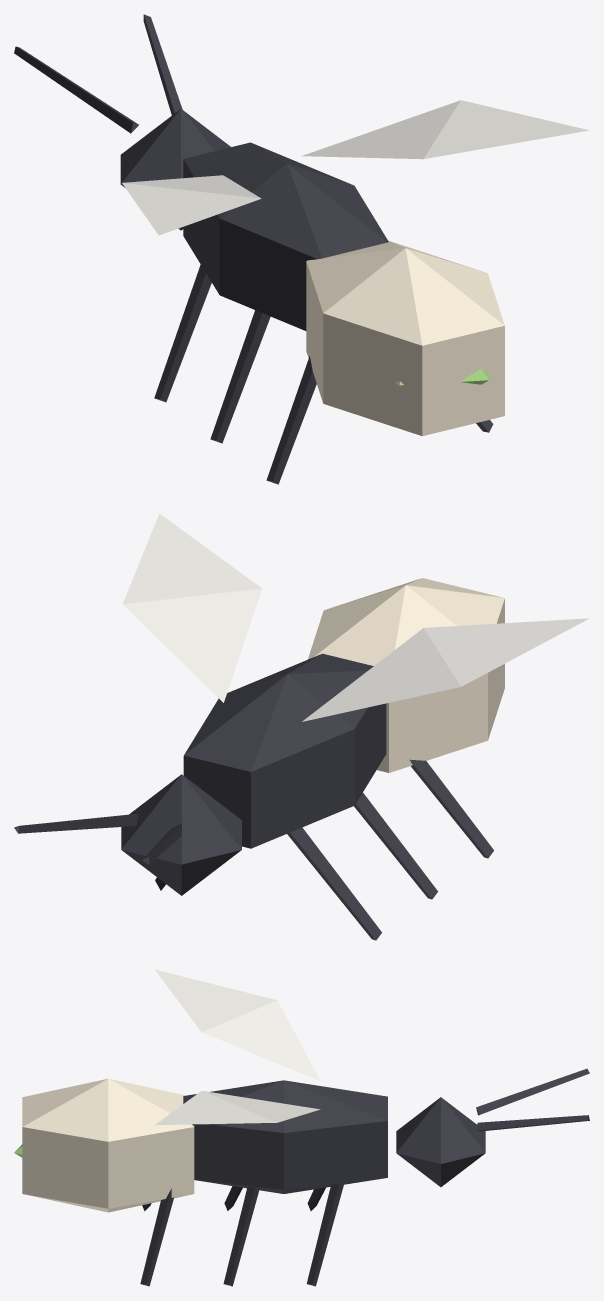
File: deco_firefly.obj
The picture shows the model from 3 angles, top to bottom: view 1: azimuth 30°, elevation 25°; view 2: azimuth 150°, elevation 25°; view 3: azimuth 270°, elevation 25°; orthographic projection. The views are drawn at different scales.
Parts seen in each view (by area): view 1: deco_firefly; view 2: deco_firefly; view 3: deco_firefly.
Part boxes in pixels (x1=…): deco_firefly: x1=14, y1=14, x2=588, y2=484; deco_firefly: x1=14, y1=513, x2=589, y2=940; deco_firefly: x1=14, y1=969, x2=589, y2=1286.
Bounding box in the file's own units: 0.02 × 0.012 × 0.0312.
Materials: 1 (1 with a texture image).
